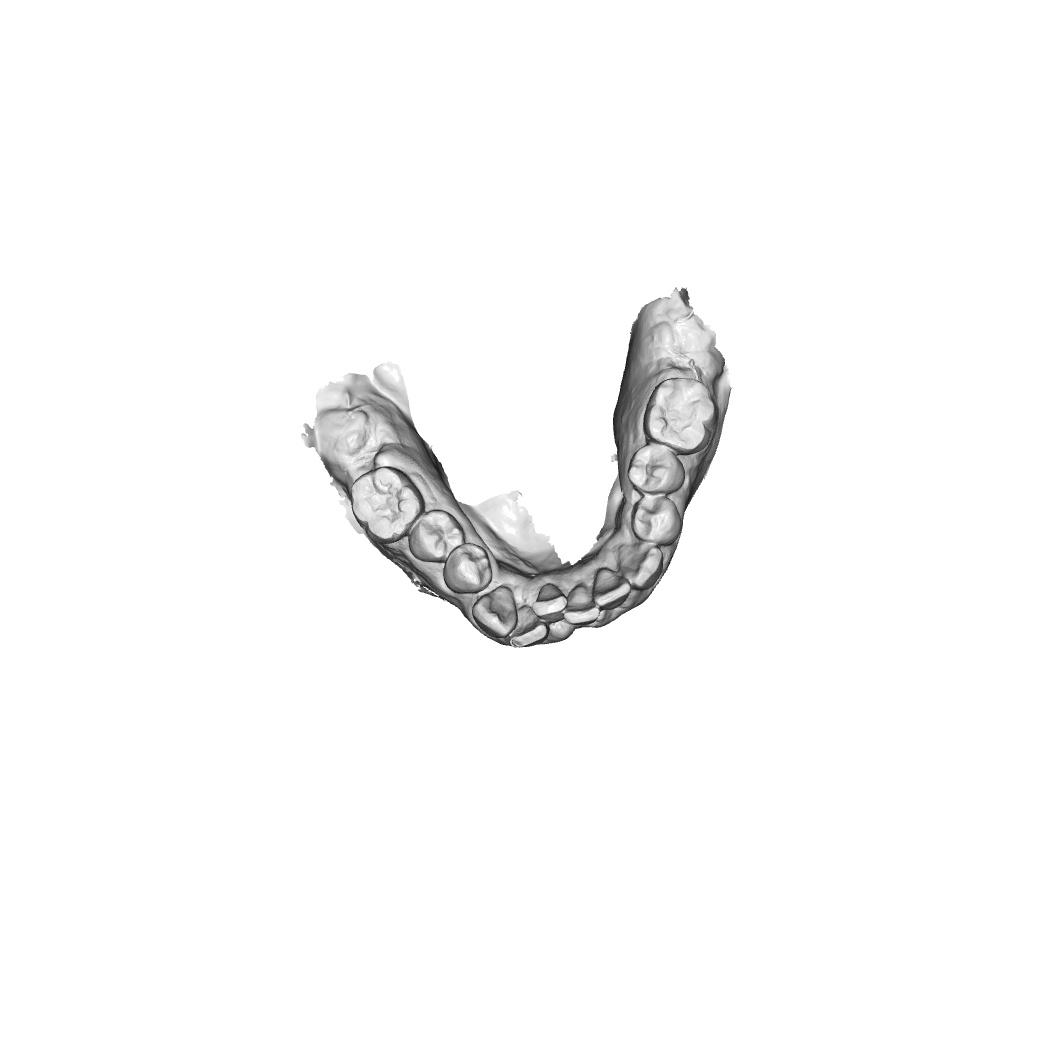canine: (471, 584, 518, 639), (616, 542, 664, 592)
incisor: (508, 604, 550, 649), (592, 566, 631, 610), (562, 584, 601, 626), (532, 583, 569, 624)
molar: (350, 465, 426, 545), (642, 377, 718, 456)
premolar: (408, 509, 466, 563), (627, 443, 686, 495), (630, 494, 682, 547), (442, 542, 493, 594)
